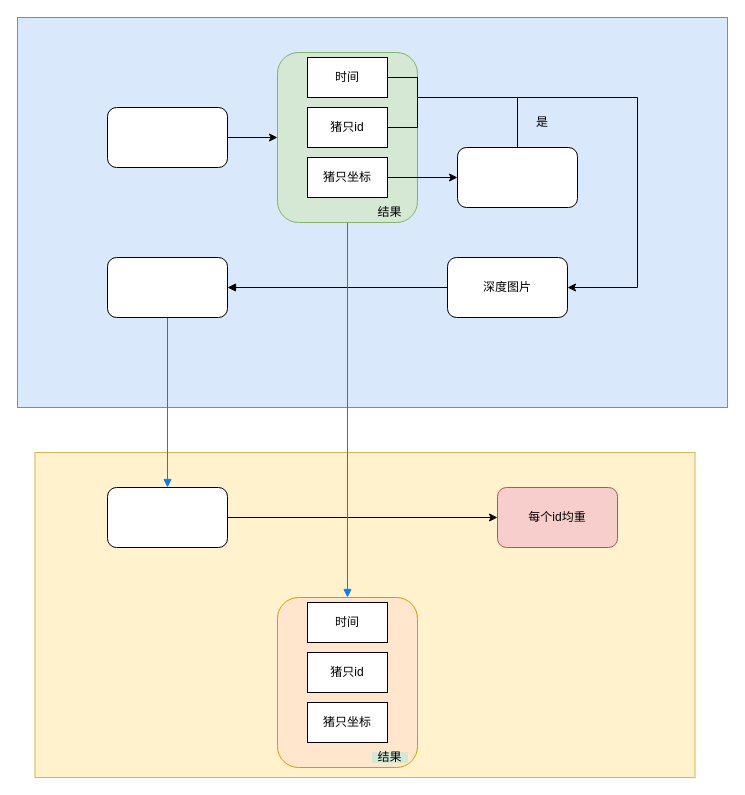
Some shapes in this 745 by 795 pixel diagram are drawn without their labels. The shapes that lost their labels are listed below. From the top down, each one's box as (x1, y1, x2, y2) in pixels, then its label:
(106, 106, 228, 168): 过道盘点
(456, 146, 578, 208): 判断中心猪
(106, 256, 228, 318): 筛选后的深度图片+id
(106, 486, 228, 548): 估重引擎
